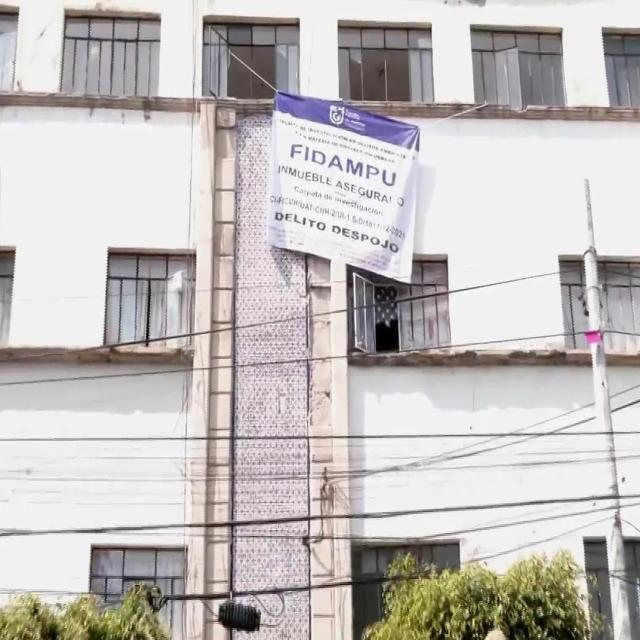stamps: (267, 91, 421, 282)
